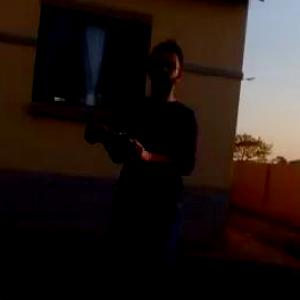follow: (83, 36, 201, 299)
